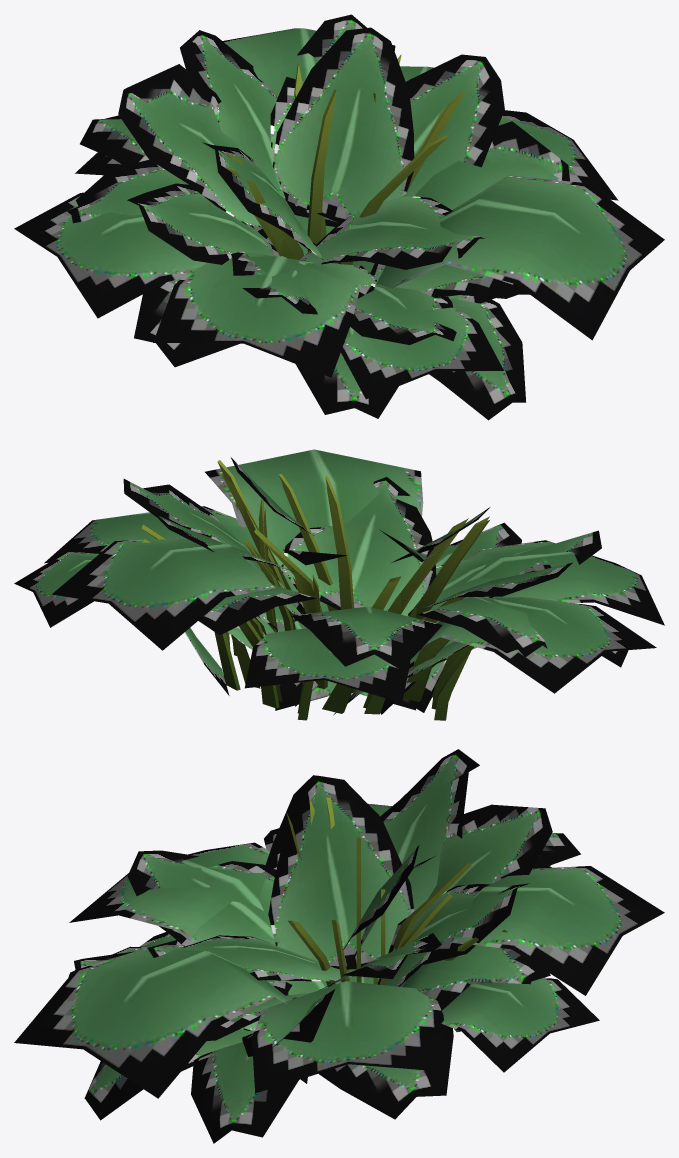
The model's file is seaplants.glb.
The picture shows the model from 3 angles, top to bottom: view 1: azimuth 30°, elevation 25°; view 2: azimuth 150°, elevation 25°; view 3: azimuth 270°, elevation 25°; orthographic projection. The views are drawn at different scales.
Parts seen in each view (by area): view 1: Plant_1_Plane.061, Plant_2_Plane.042, Grass_Large_Extruded, Grass_Large; view 2: Plant_2_Plane.042, Plant_1_Plane.061, Grass_Large_Extruded, Grass_Large; view 3: Plant_1_Plane.061, Plant_2_Plane.042, Grass_Large_Extruded.
Boxes of the visible parts, x1,y1,x2,y2 form: Plant_1_Plane.061: [67, 14, 569, 420]; Plant_2_Plane.042: [14, 28, 664, 399]; Grass_Large_Extruded: [207, 54, 465, 264]; Grass_Large: [226, 107, 446, 263]; Plant_2_Plane.042: [14, 449, 664, 715]; Plant_1_Plane.061: [123, 457, 628, 677]; Grass_Large_Extruded: [141, 460, 489, 720]; Grass_Large: [221, 474, 489, 713]; Plant_1_Plane.061: [74, 749, 580, 1143]; Plant_2_Plane.042: [14, 804, 664, 1098]; Grass_Large_Extruded: [288, 797, 507, 1032].
Size of the model in its own units: 1.4 by 0.6862 by 1.47.
2 materials, 2 textured.
